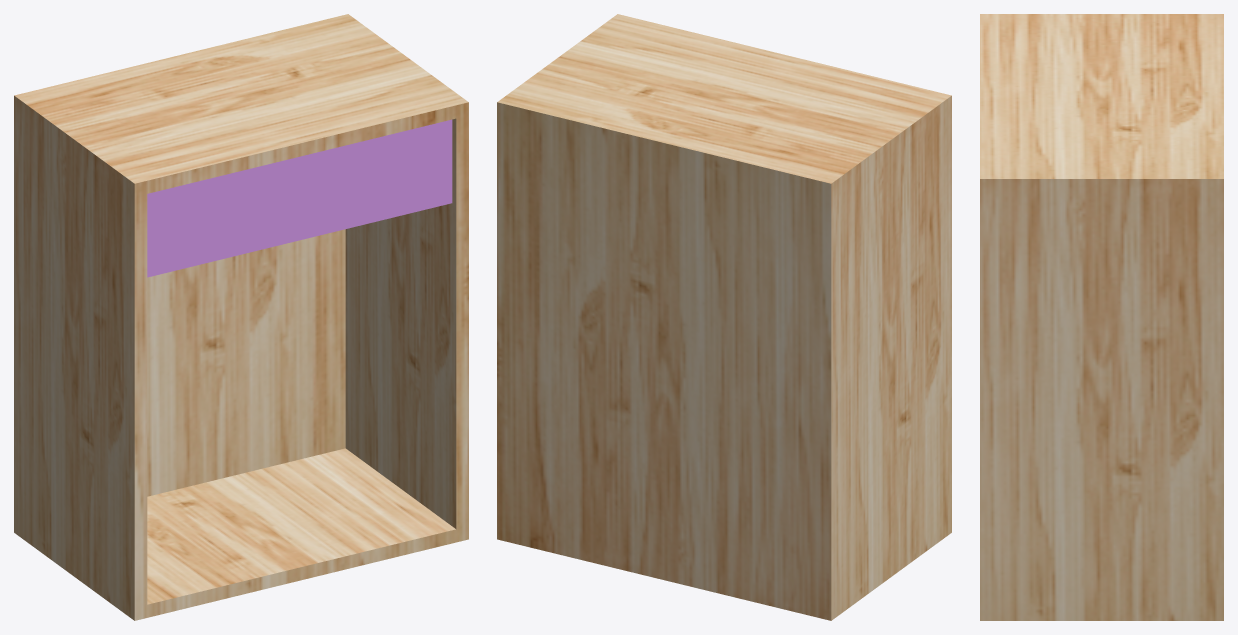
The model's file is Cubby_L.fbx.
3 views of the same model, side by side, from view 1: azimuth 30°, elevation 25°; view 2: azimuth 150°, elevation 25°; view 3: azimuth 270°, elevation 25° (orthographic).
Visible parts, largest first — view 1: Cubby_L; view 2: Cubby_L; view 3: Cubby_L.
Boxes of the visible parts, left/top/right/bottom form: Cubby_L: left=14, top=14, right=468, bottom=620; Cubby_L: left=497, top=14, right=951, bottom=620; Cubby_L: left=980, top=14, right=1223, bottom=620.
Size of the model in its own units: 60.96 by 76.21 by 38.1.
